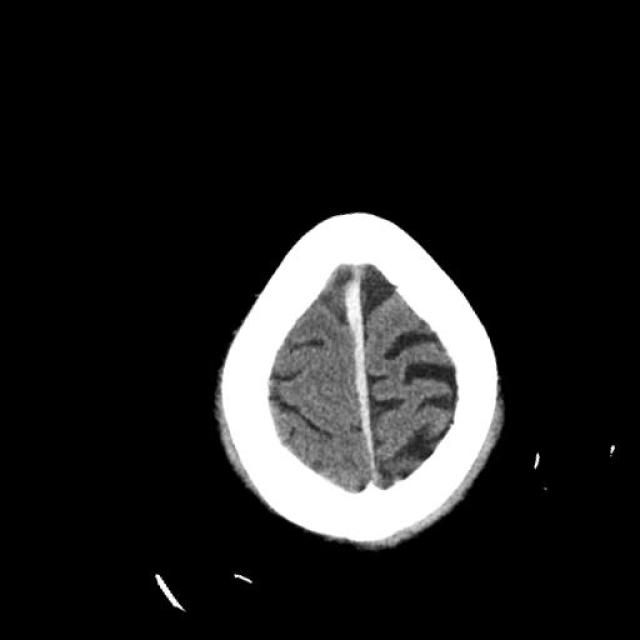Subdural: (278, 250, 436, 501)
